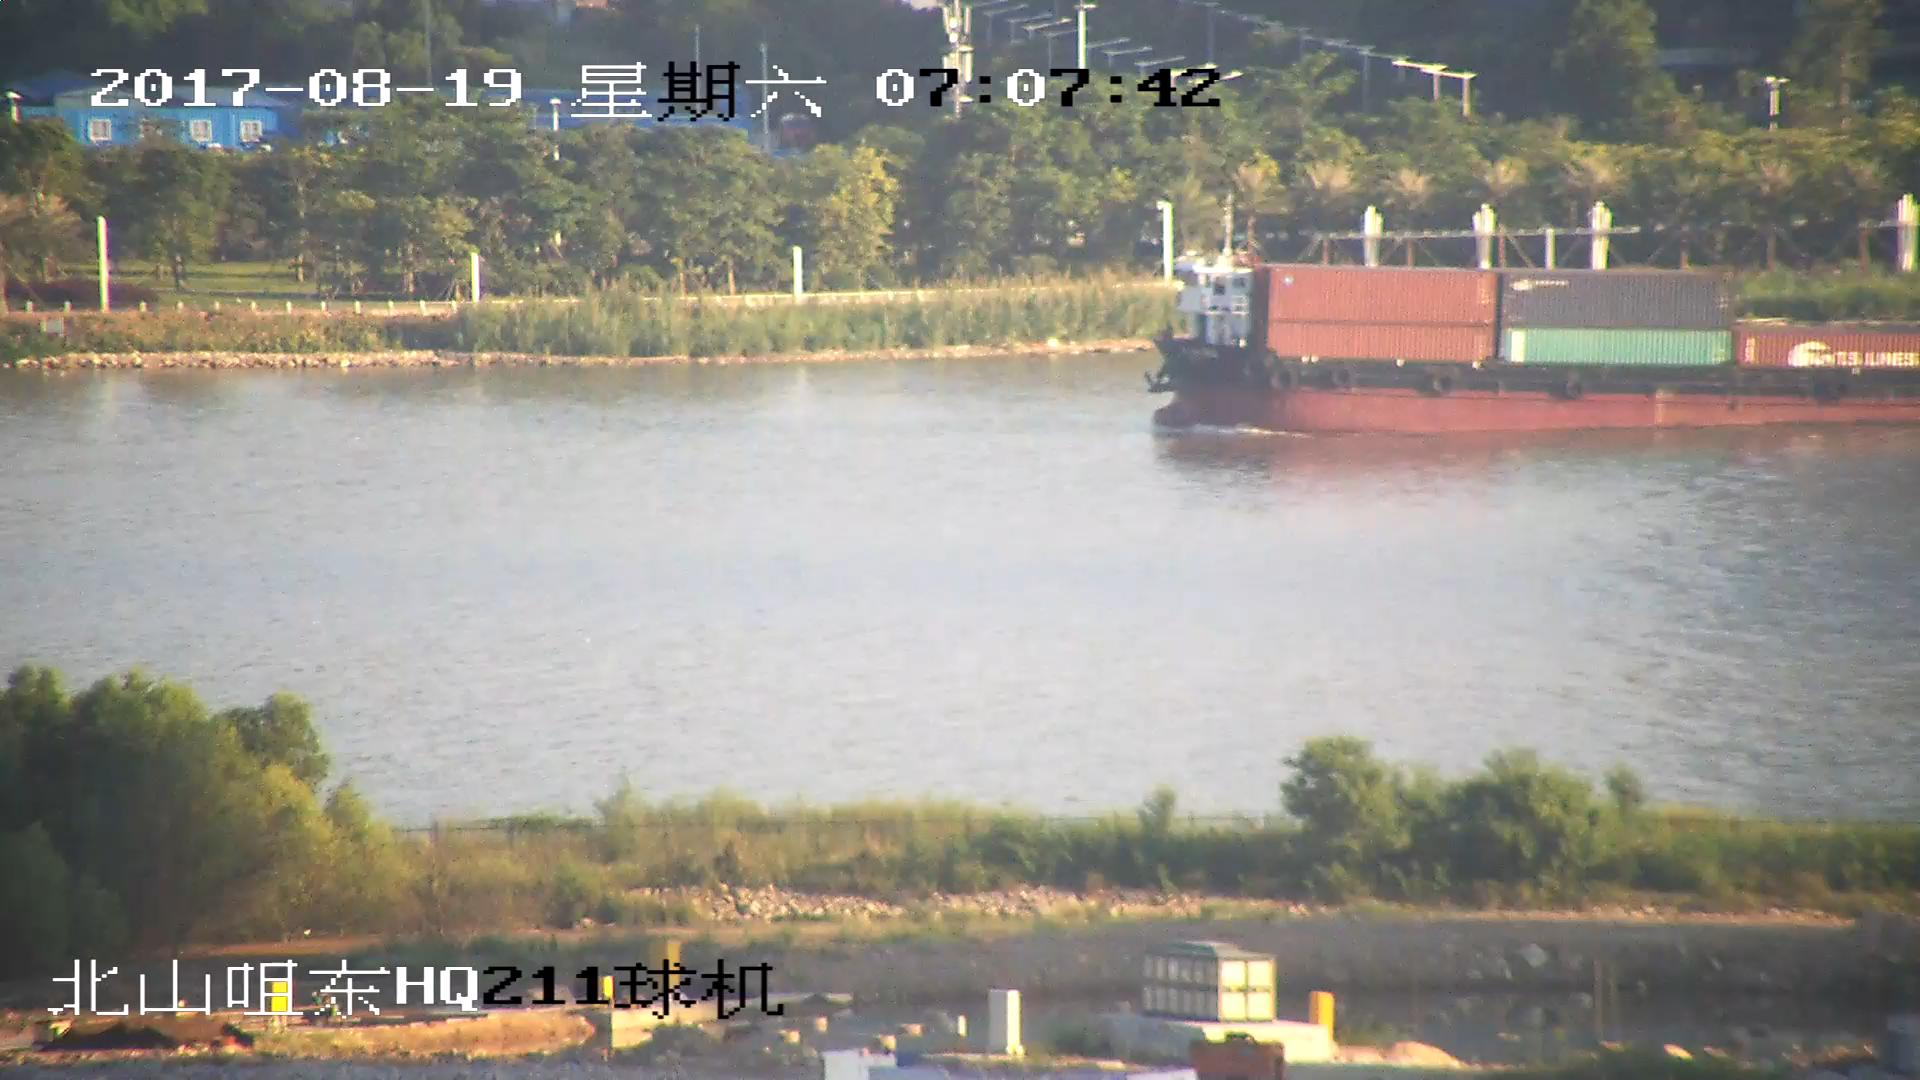container ship: (1148, 235, 1920, 438)
